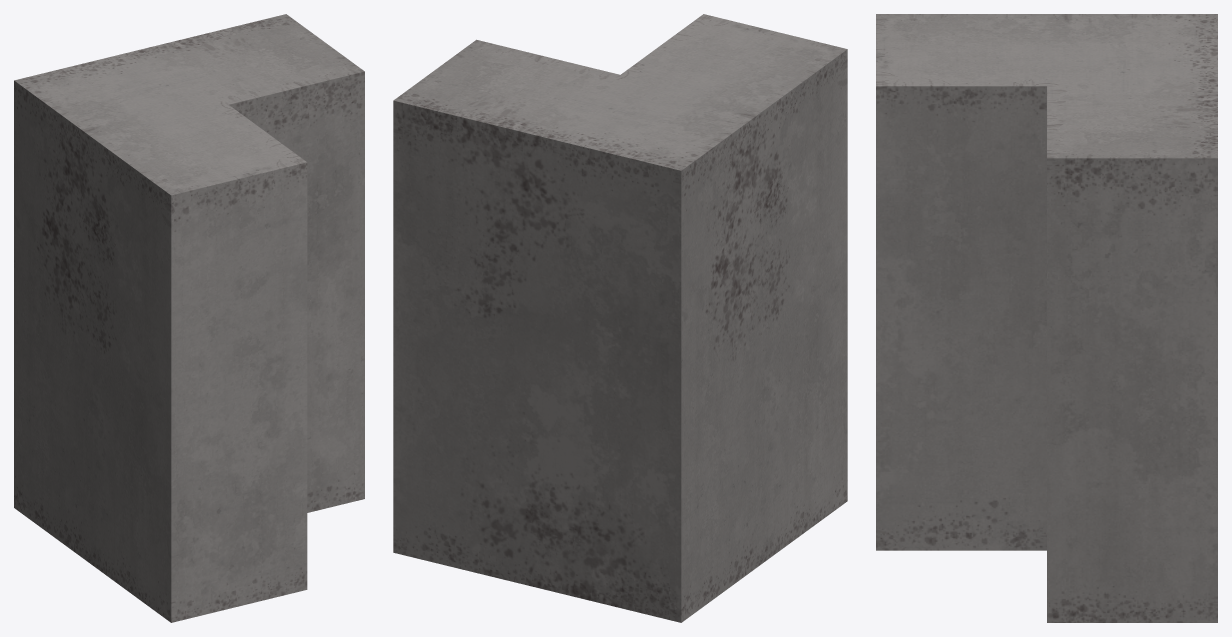
File: Corner 2x2.fbx
3 renders of one model, left to right at view 1: azimuth 30°, elevation 25°; view 2: azimuth 150°, elevation 25°; view 3: azimuth 270°, elevation 25°, orthographic. The views are drawn at different scales.
Parts seen in each view (by area): view 1: Corner_2x2; view 2: Corner_2x2; view 3: Corner_2x2.
Boxes of the visible parts, x1,y1,x2,y2 form: Corner_2x2: [14, 14, 364, 622]; Corner_2x2: [393, 14, 847, 622]; Corner_2x2: [876, 14, 1217, 622].
Size of the model in its own units: 2 by 3 by 2.
